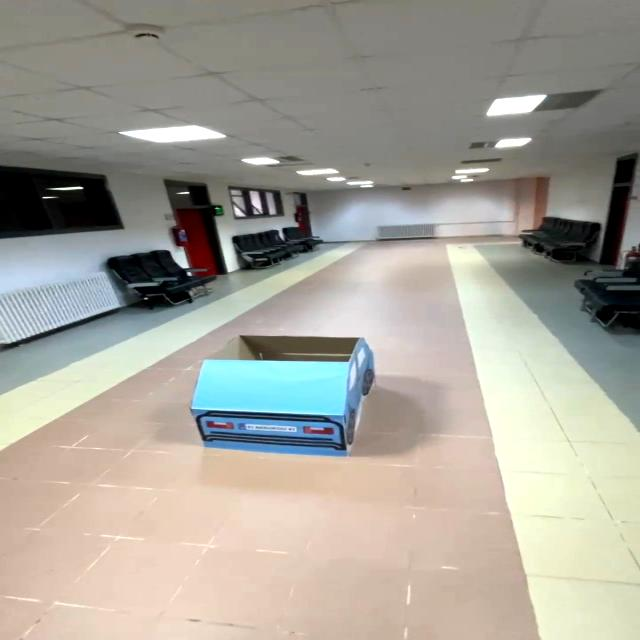blue_car: (153, 320, 415, 478)
